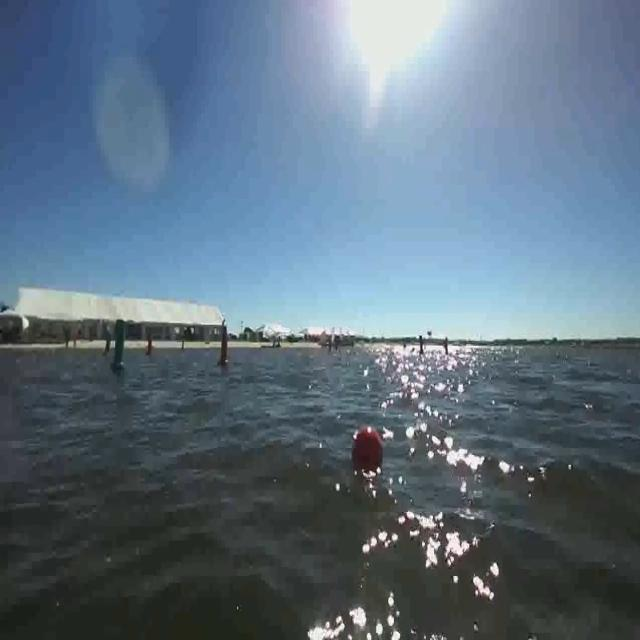green-column-buoy: (110, 318, 129, 371)
red-buoy: (353, 424, 381, 463)
red-column-buoy: (216, 328, 232, 369), (145, 335, 154, 358)
